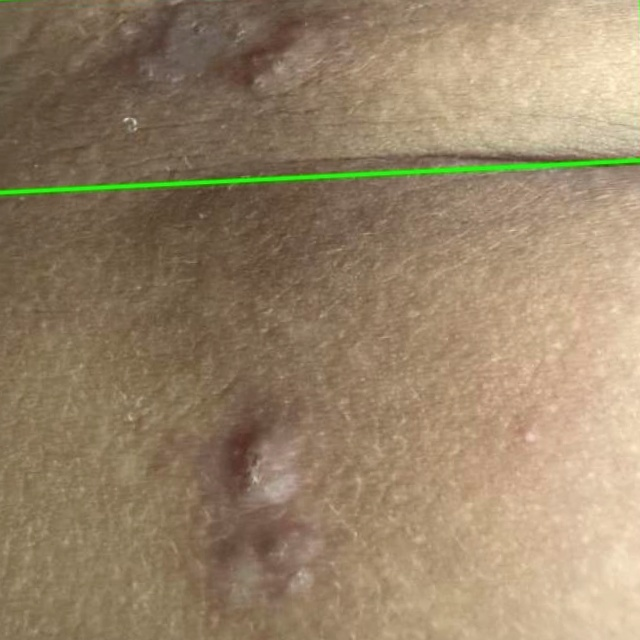Scabies: (0, 0, 639, 192)
